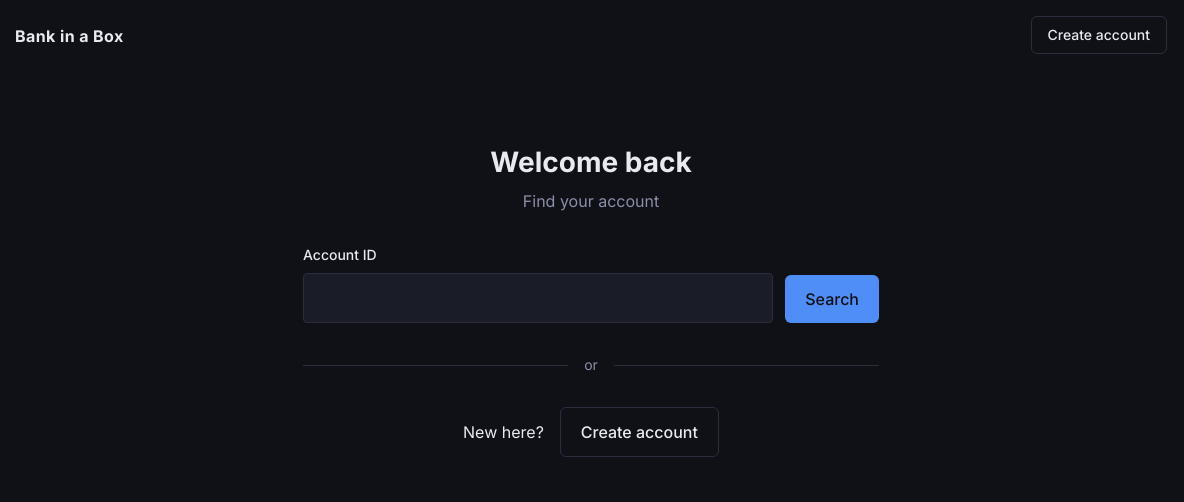
Test: HomePage account search › renders a backend search error inline
Type "missing-account" into the field labelled "Account ID" at x=538, y=298, box [303,273,773,323]
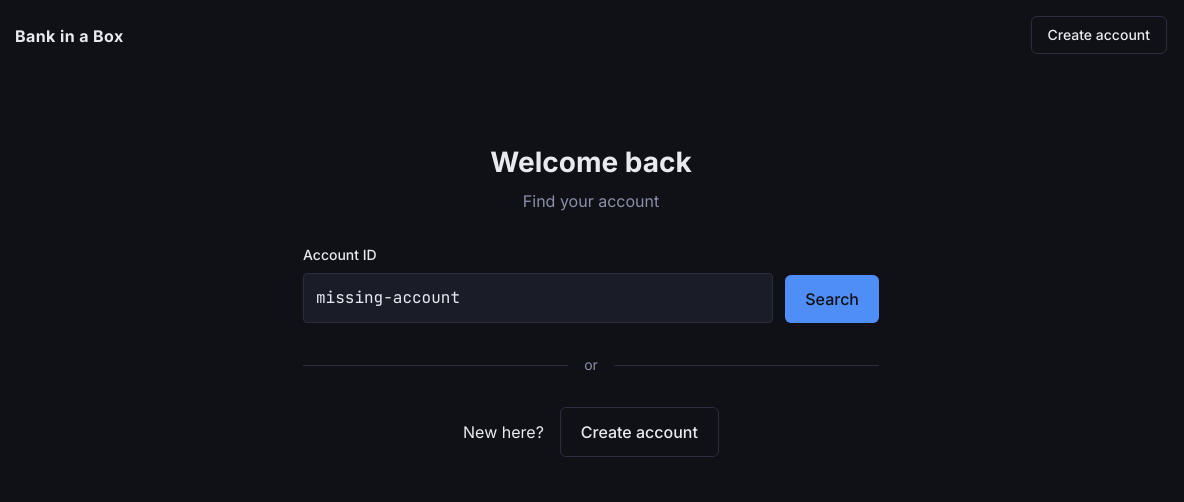
Click the button "Search" at x=832, y=299, box [785,275,879,323]
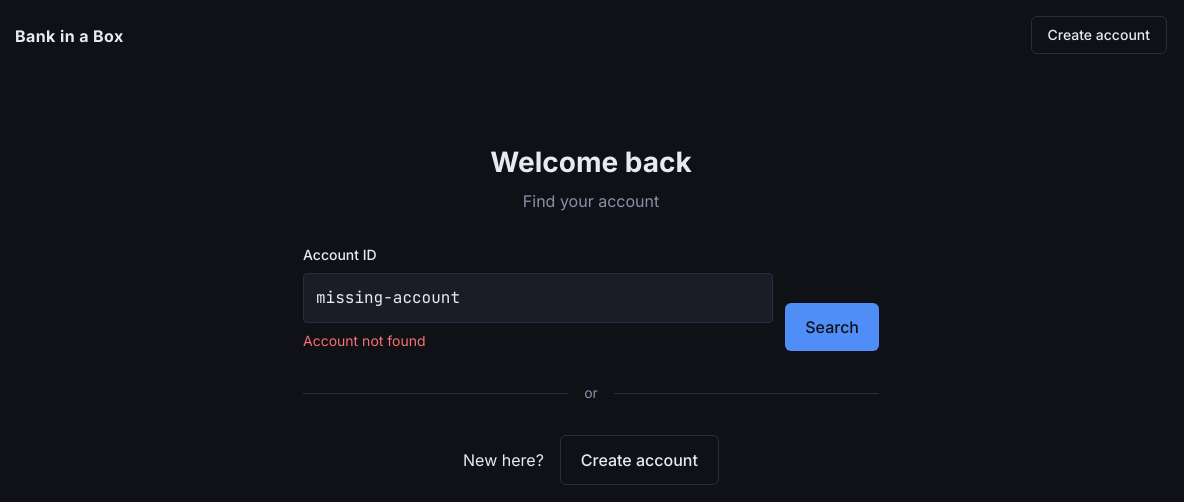
Expected: the message reads "Account not found", [303,332,426,349]
